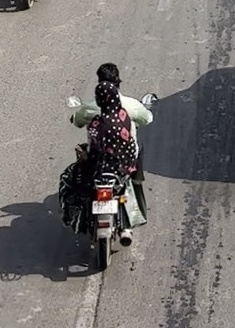BikeWithRider: (52, 58, 162, 274)
NoHelmet: (90, 79, 125, 117), (90, 59, 126, 95)
